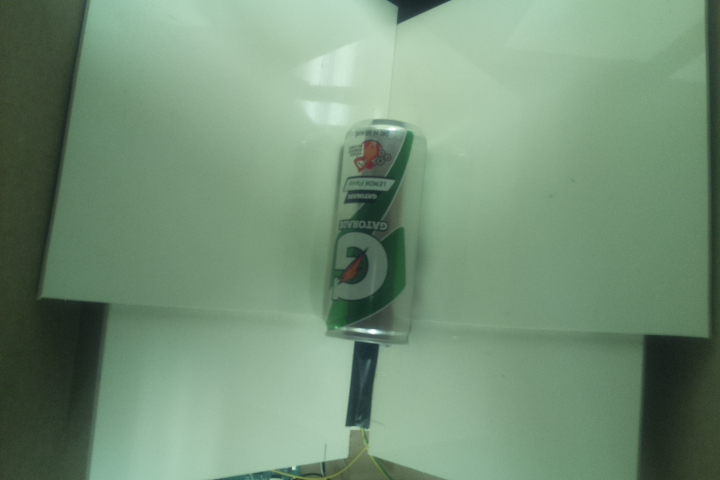can: (317, 114, 428, 346)
